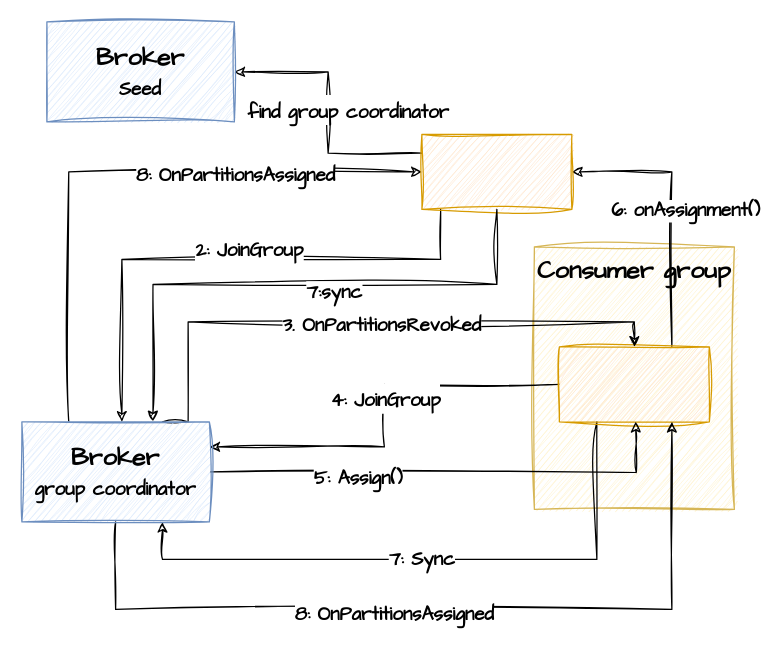
The diagram is 781 pixels wide and 648 high, and some of its shapes have lost their labels. The shapes that lost their labels are listed below. From the top down, each one's box as (x1, y1, x2, y2) in pixels, then its label:
(421, 133, 572, 209): Consumer new
(558, 346, 709, 422): Consumer group-leader
